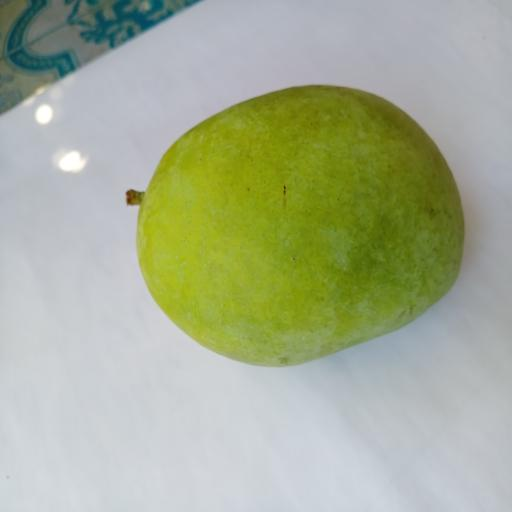mango-unripe: (107, 82, 480, 387)
